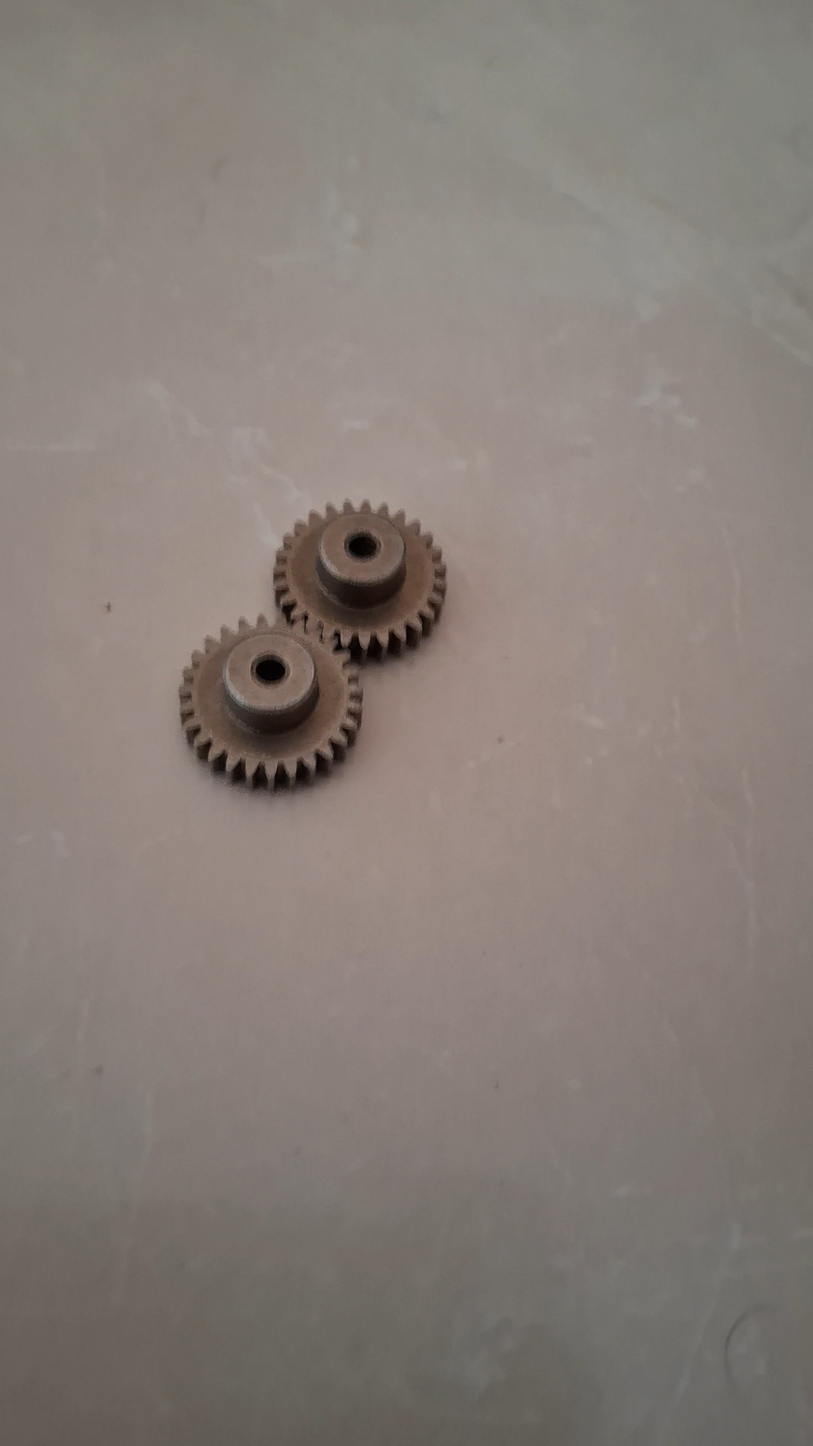spur gear: (174, 630, 358, 806), (274, 515, 448, 673)
